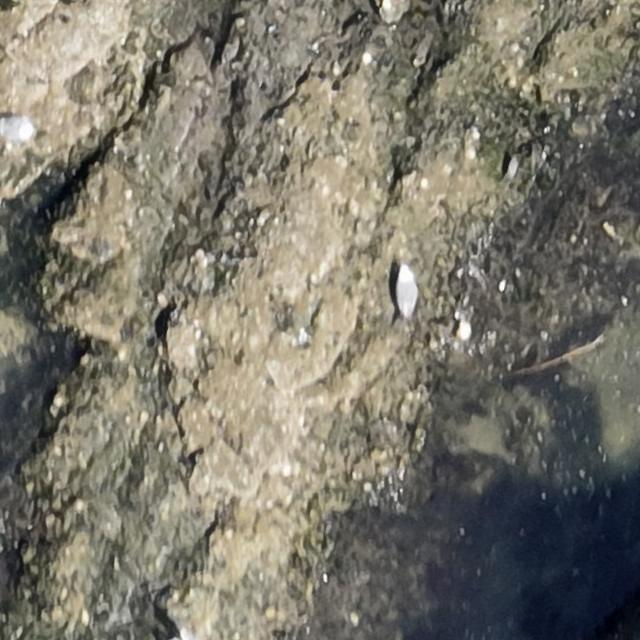umineko: (396, 272, 417, 318), (1, 117, 34, 143)
